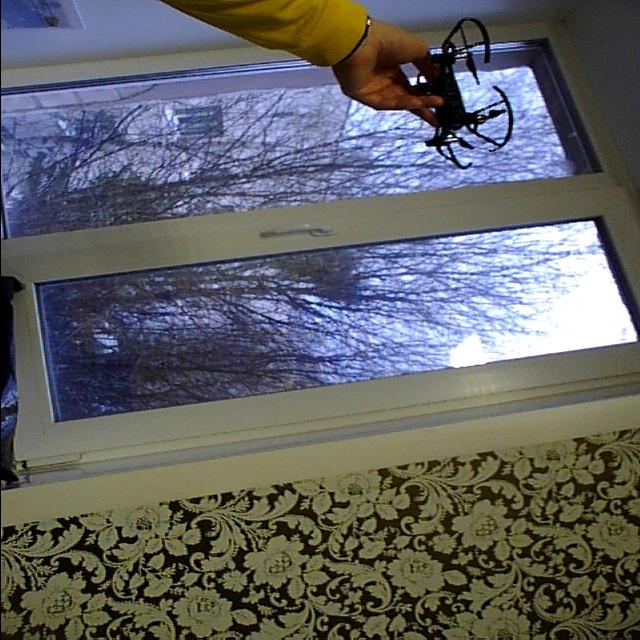drone: (401, 15, 512, 178)
